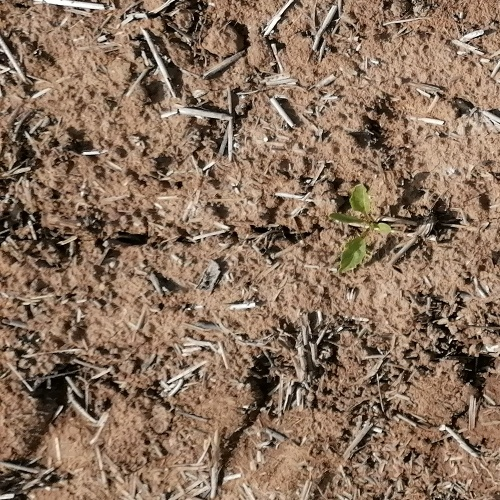beet: (330, 186, 392, 274)
